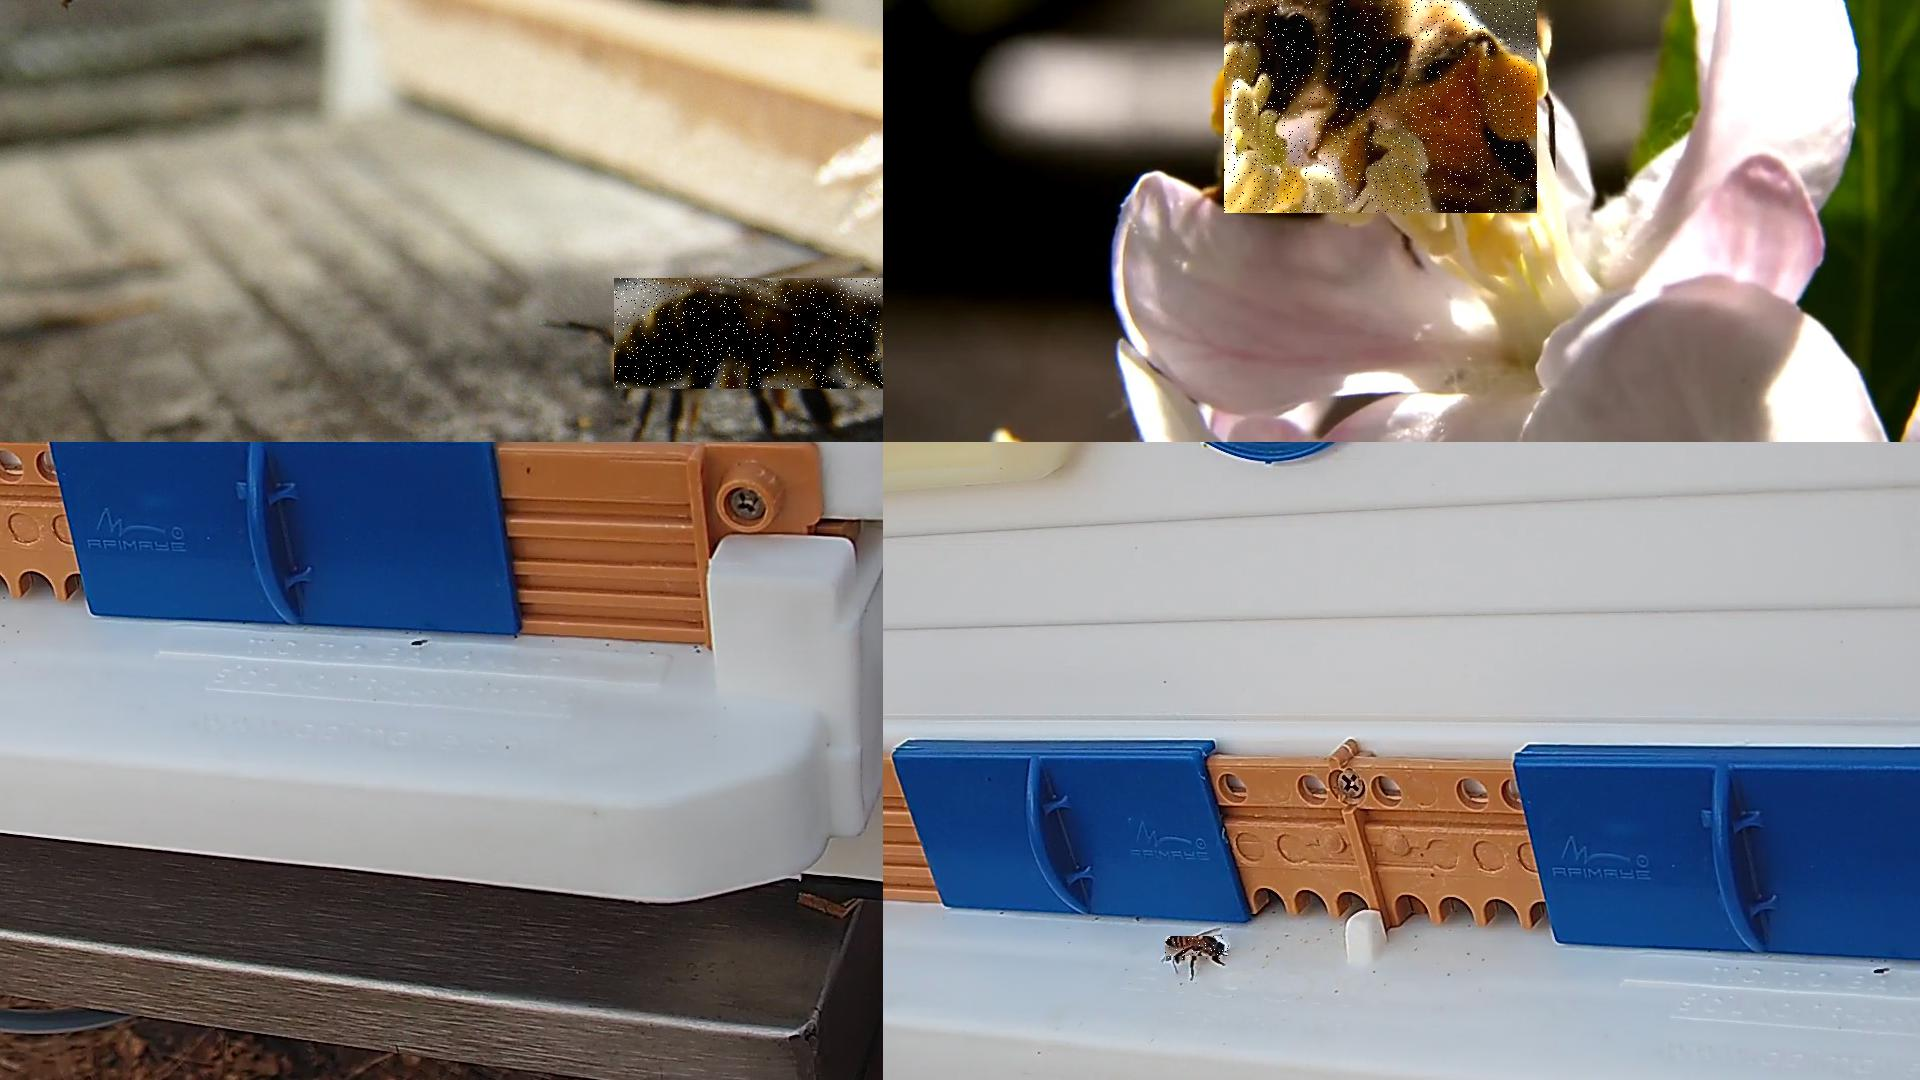bee: (615, 278, 882, 392), (1166, 936, 1229, 961)
pollenbee: (1224, 0, 1539, 215)
